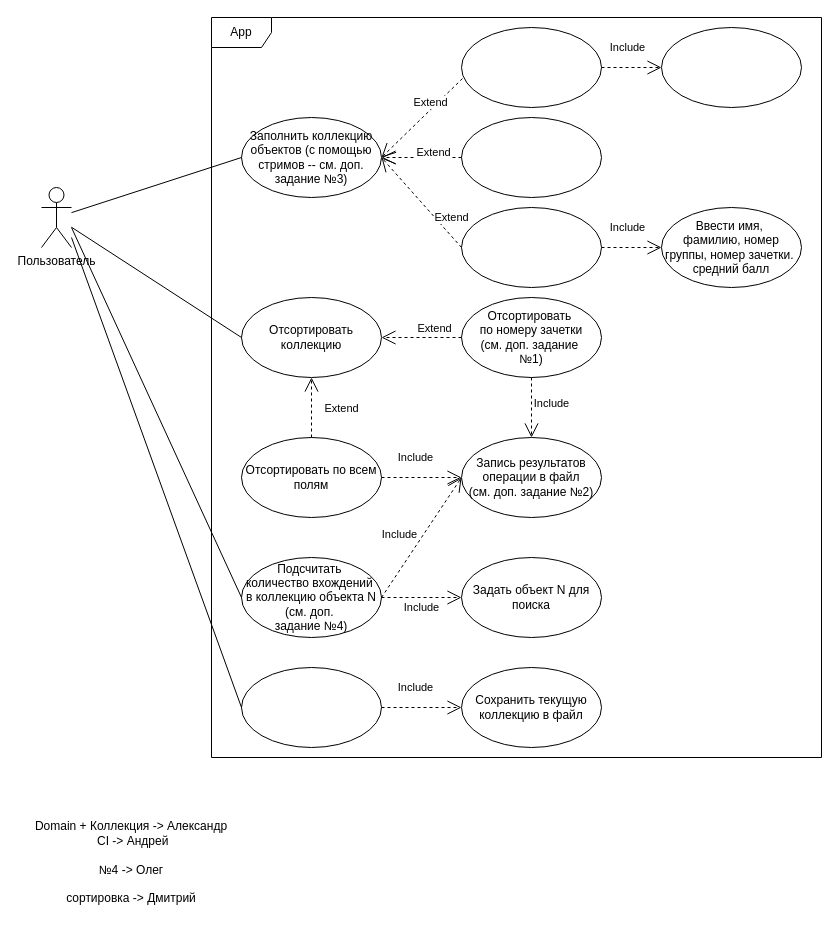
The diagram is 839 pixels wide and 935 high, and some of its shapes have lost their labels. The centre of each missing label's shape, as x and y in pixels:
Добавить один объект вручную в конец коллекции: [531,247]
Завершить программу: [311,707]
Задать количество объектов: [731,67]
Заполнить из файла: [531,157]
Сгенерировать коллекцию объектов: [531,67]
